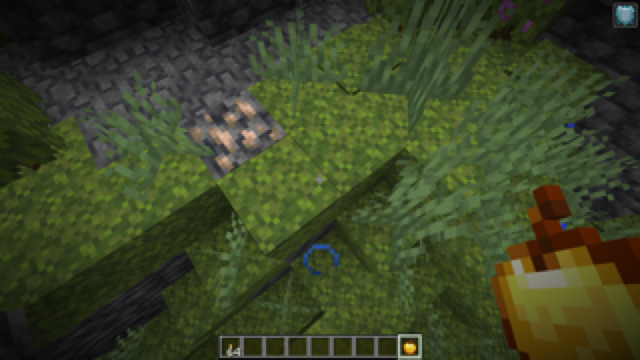iron: (179, 91, 288, 178)
